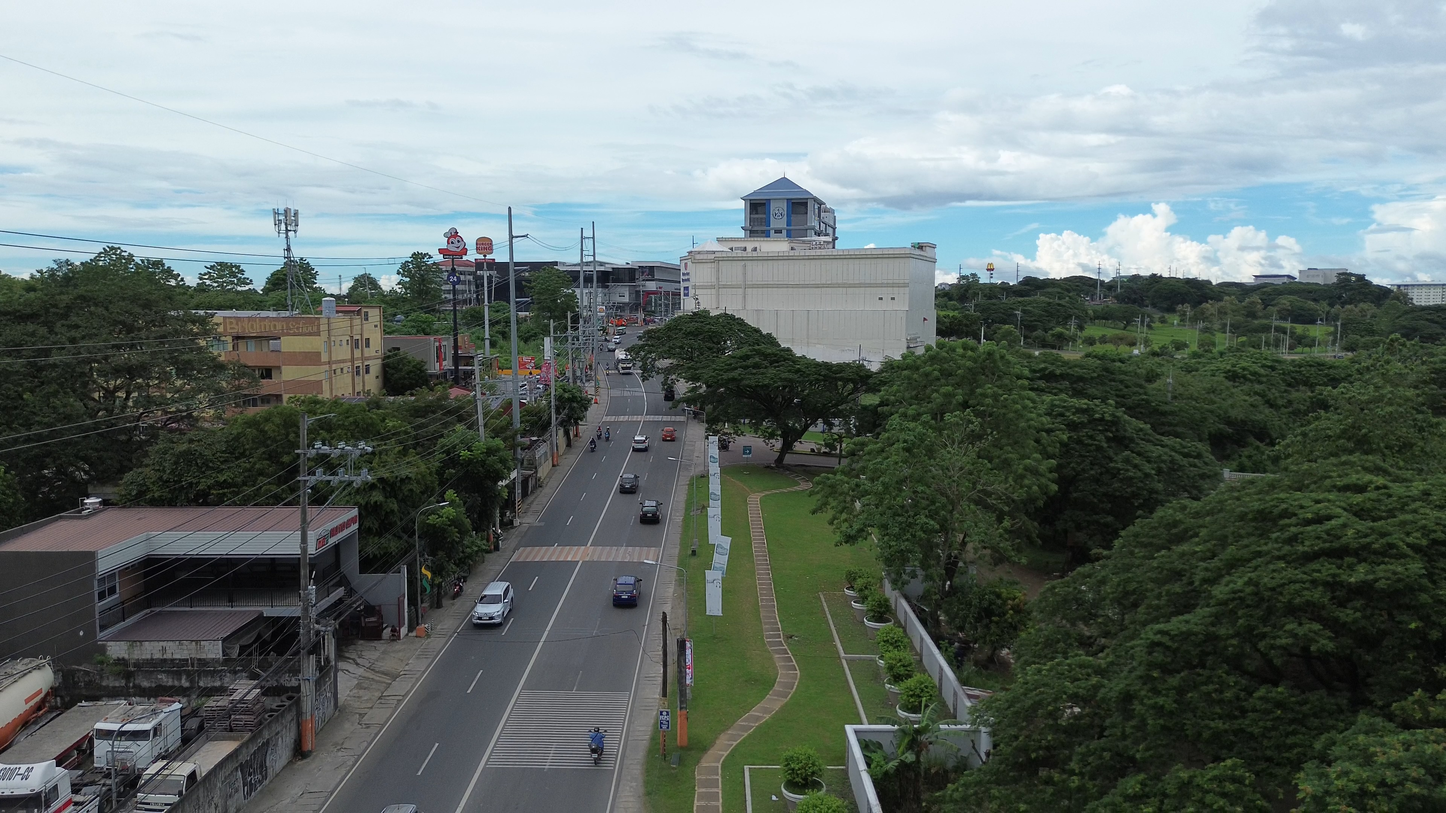car: (612, 575, 641, 606), (639, 500, 661, 523), (618, 473, 640, 493), (631, 435, 649, 451), (660, 426, 676, 441)
motorcycle: (589, 727, 604, 766), (588, 439, 596, 452)
truck: (136, 734, 244, 813), (0, 760, 99, 813)
vehicle: (136, 738, 241, 813), (94, 702, 182, 776), (0, 658, 54, 749), (0, 761, 76, 813), (136, 760, 200, 813), (471, 581, 514, 625), (616, 349, 633, 374), (381, 804, 418, 813), (662, 383, 675, 400), (590, 439, 596, 452)
